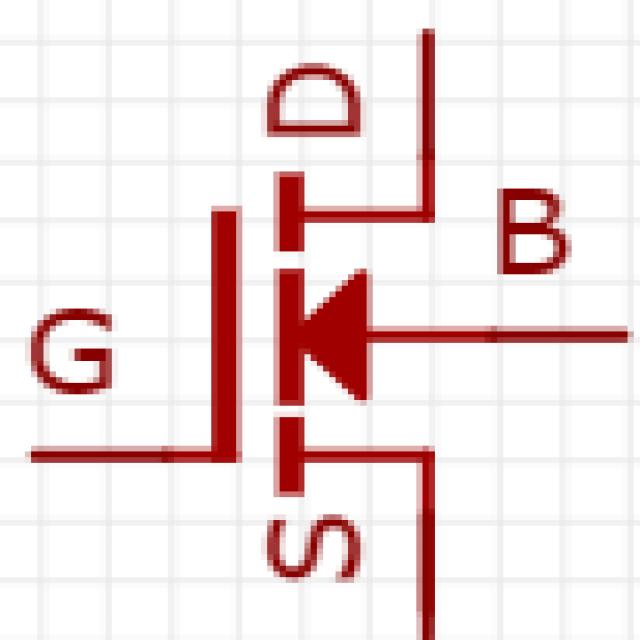nmos: (12, 11, 609, 640)
